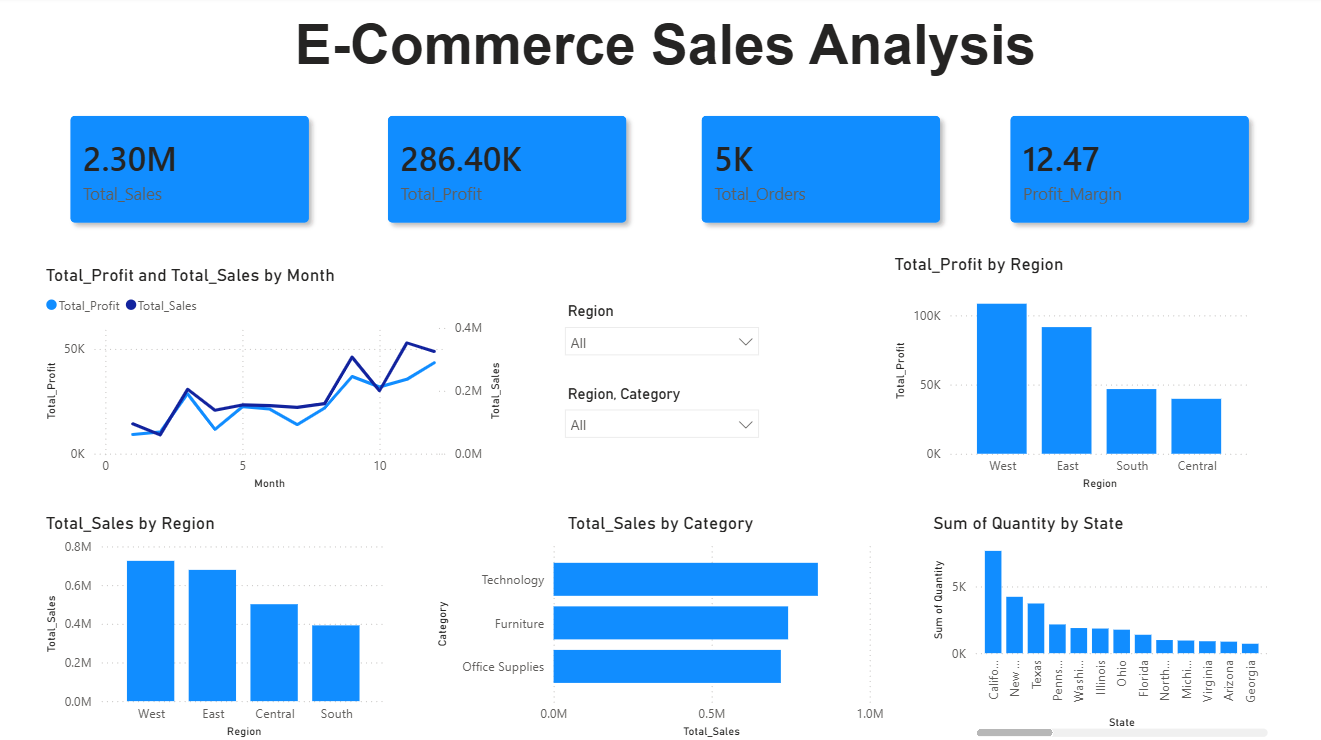

Layout of this report page (visuals, bound fields, positions):
{"tool":"powerbi","page":{"name":"Page 1","canvas":[1280,720],"ordinal":0},"visuals":[{"type":"textbox","box":[260.7,12.3,767.1,74.1],"z":0},{"type":"cardVisual","fields":{"Data":["cleaned_superstore.Total_Profit"]},"box":[347.2,86.4,288.2,161.9],"z":1000},{"type":"cardVisual","fields":{"Data":["cleaned_superstore.Total_Sales"]},"box":[41.2,86.4,288.2,161.9],"z":2000},{"type":"cardVisual","fields":{"Data":["cleaned_superstore.Total_Orders"]},"box":[650.4,86.4,288.2,161.9],"z":3000},{"type":"cardVisual","fields":{"Data":["cleaned_superstore.Profit_Margin"]},"box":[948.2,86.4,288.2,161.9],"z":4000},{"type":"lineChart","fields":{"Y":["cleaned_superstore.Total_Profit"],"Y2":["cleaned_superstore.Total_Sales"],"Category":["cleaned_superstore.Month"]},"box":[41.2,259.3,450.1,222.3],"z":5000},{"type":"barChart","fields":{"Category":["cleaned_superstore.Category"],"Y":["cleaned_superstore.Total_Sales"]},"box":[418.5,498.1,441.9,222.3],"z":6000},{"type":"columnChart","fields":{"Y":["cleaned_superstore.Total_Sales"],"Category":["cleaned_superstore.Region"]},"box":[41.2,498.1,338.9,222.3],"z":7000},{"type":"slicer","fields":{"Values":["cleaned_superstore.Region"]},"box":[536.5,290.9,207.2,68.6],"z":8000},{"type":"columnChart","fields":{"Category":["cleaned_superstore.State"],"Y":["Sum(cleaned_superstore.Quantity)"]},"box":[898,498,333,222],"z":10000},{"type":"slicer","fields":{"Values":["cleaned_superstore.Region","cleaned_superstore.Category"]},"box":[536.5,370.5,207.2,68.6],"z":10001},{"type":"columnChart","fields":{"Y":["cleaned_superstore.Total_Profit"],"Category":["cleaned_superstore.Region"]},"box":[860.4,248.4,352.7,233.3],"z":10002}]}

Visuals, with their boxes in screenshot pixels (x1, y1, x2, y2), scaled from the page's 1280x720 canvas onto the 1321x740 screenshot:
textbox: [x1=269, y1=13, x2=1061, y2=89]
cardVisual - cleaned_superstore.Total_Profit: [x1=358, y1=89, x2=656, y2=255]
cardVisual - cleaned_superstore.Total_Sales: [x1=43, y1=89, x2=340, y2=255]
cardVisual - cleaned_superstore.Total_Orders: [x1=671, y1=89, x2=969, y2=255]
cardVisual - cleaned_superstore.Profit_Margin: [x1=979, y1=89, x2=1276, y2=255]
lineChart - cleaned_superstore.Total_Profit x cleaned_superstore.Total_Sales: [x1=43, y1=267, x2=507, y2=495]
barChart - cleaned_superstore.Category x cleaned_superstore.Total_Sales: [x1=432, y1=512, x2=888, y2=739]
columnChart - cleaned_superstore.Total_Sales x cleaned_superstore.Region: [x1=43, y1=512, x2=392, y2=739]
slicer - cleaned_superstore.Region: [x1=554, y1=299, x2=768, y2=369]
columnChart - cleaned_superstore.State x Sum(cleaned_superstore.Quantity): [x1=927, y1=512, x2=1270, y2=739]
slicer - cleaned_superstore.Region x cleaned_superstore.Category: [x1=554, y1=381, x2=768, y2=451]
columnChart - cleaned_superstore.Total_Profit x cleaned_superstore.Region: [x1=888, y1=255, x2=1252, y2=495]
